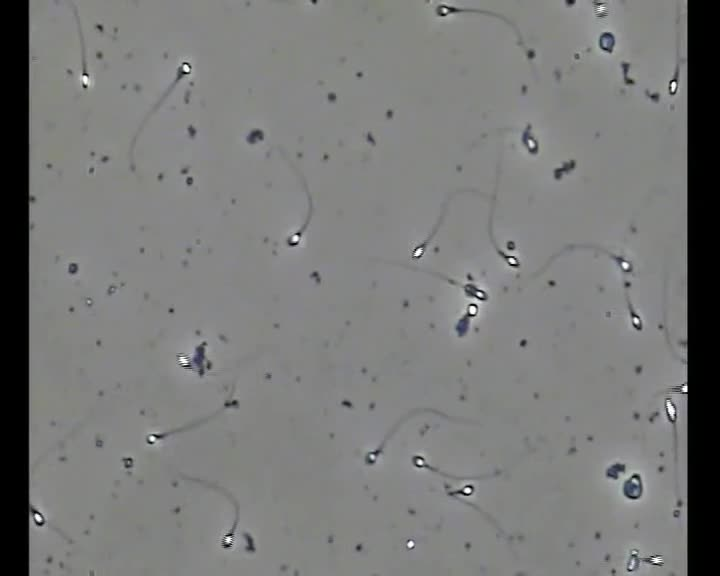spermhead: (522, 124, 538, 154), (623, 474, 642, 499), (463, 282, 487, 300), (598, 31, 615, 52), (664, 396, 677, 422), (620, 61, 634, 85), (606, 462, 625, 479), (455, 314, 469, 337), (435, 3, 457, 17), (625, 549, 639, 571), (668, 66, 678, 95), (593, 0, 608, 18), (31, 507, 45, 526), (243, 531, 255, 553), (616, 256, 632, 272), (177, 60, 192, 76), (176, 353, 191, 369), (365, 449, 380, 465), (642, 554, 663, 565), (411, 244, 425, 260), (503, 254, 519, 268), (221, 532, 234, 549), (630, 312, 642, 330), (287, 231, 301, 246), (145, 432, 161, 445), (459, 483, 474, 496), (79, 72, 91, 88), (413, 455, 427, 468), (562, 159, 576, 172), (466, 302, 478, 317), (553, 166, 564, 179), (223, 399, 238, 407), (505, 240, 515, 251), (679, 381, 687, 394), (407, 538, 415, 549), (86, 297, 93, 307)
